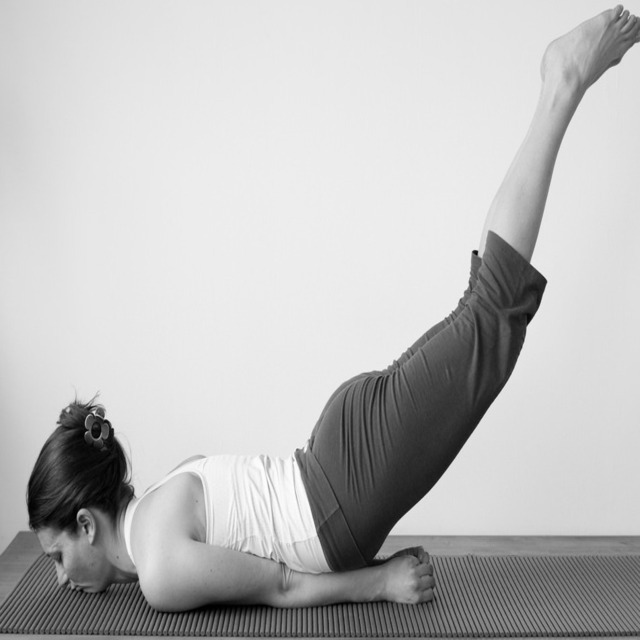Locust_Pose: (34, 8, 640, 608)
